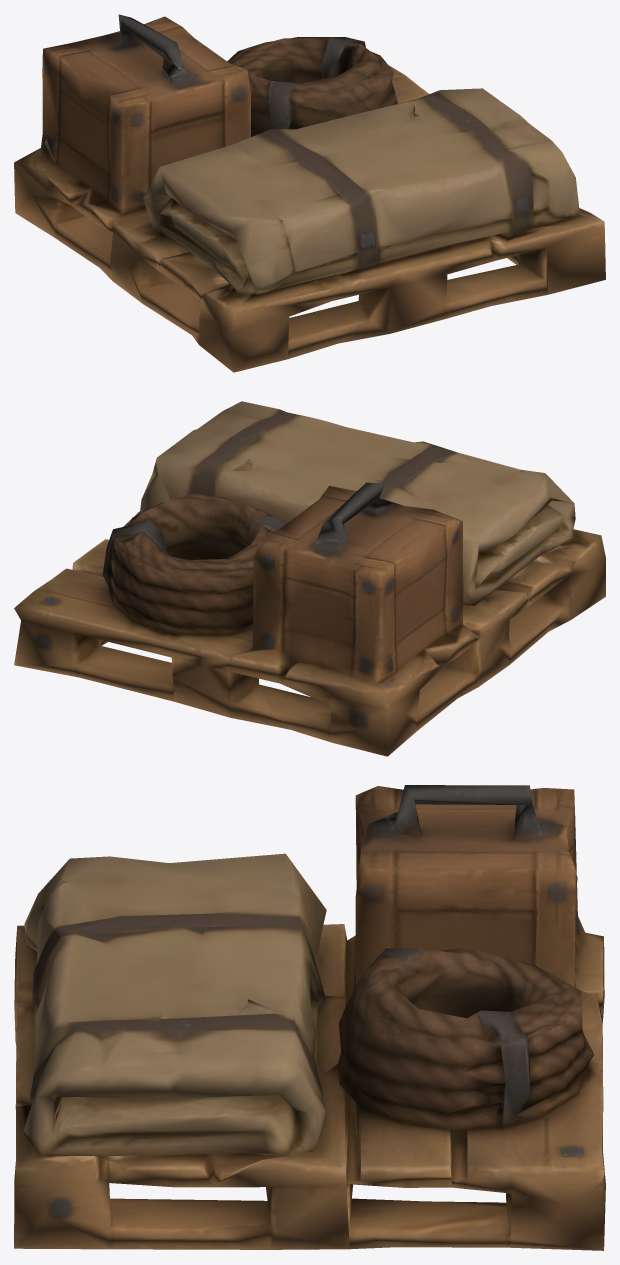
File: textures.glb
3 views of the same model, one above another, from view 1: azimuth 30°, elevation 25°; view 2: azimuth 150°, elevation 25°; view 3: azimuth 270°, elevation 25° (orthographic). The views are drawn at different scales.
Parts seen in each view (by area): view 1: tripo_node_910e0a00-2696-4c94-bd5e-1dc3dd0d011d; view 2: tripo_node_910e0a00-2696-4c94-bd5e-1dc3dd0d011d; view 3: tripo_node_910e0a00-2696-4c94-bd5e-1dc3dd0d011d.
Boxes of the visible parts, <box> form: tripo_node_910e0a00-2696-4c94-bd5e-1dc3dd0d011d: <box>14,14,605,372</box>; tripo_node_910e0a00-2696-4c94-bd5e-1dc3dd0d011d: <box>14,401,605,756</box>; tripo_node_910e0a00-2696-4c94-bd5e-1dc3dd0d011d: <box>14,785,605,1250</box>.
Bounding box in the file's own units: 0.9888 × 0.5077 × 1.
Materials: 1 (1 with a texture image).
